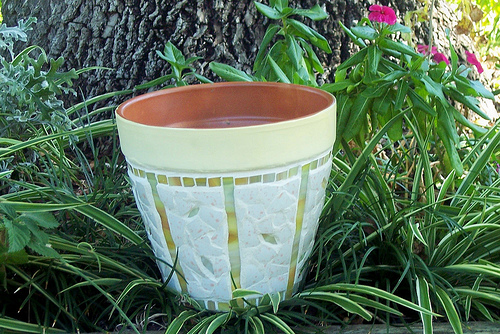tire: (116, 80, 338, 311)
